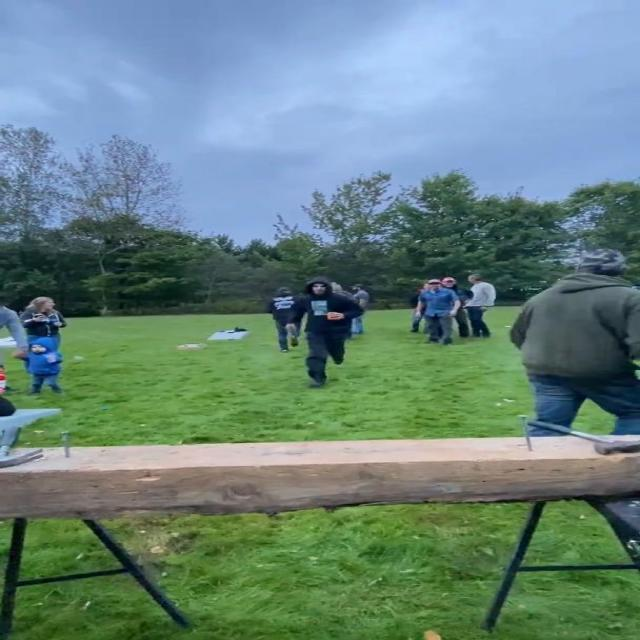hammer: (526, 416, 640, 458), (0, 424, 50, 468)
